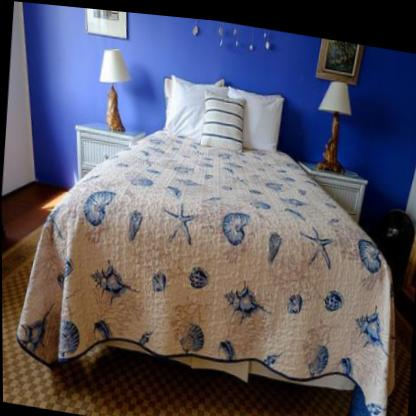Bed: (40, 56, 411, 396)
